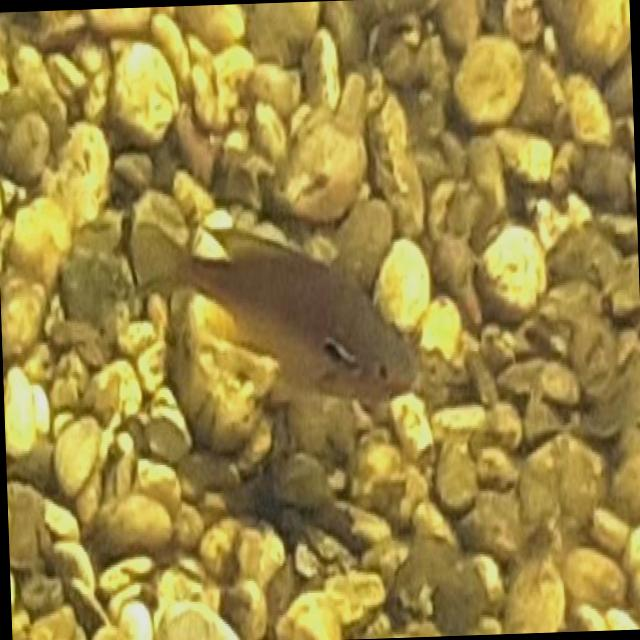Gunes Levregi: (130, 202, 422, 434)
